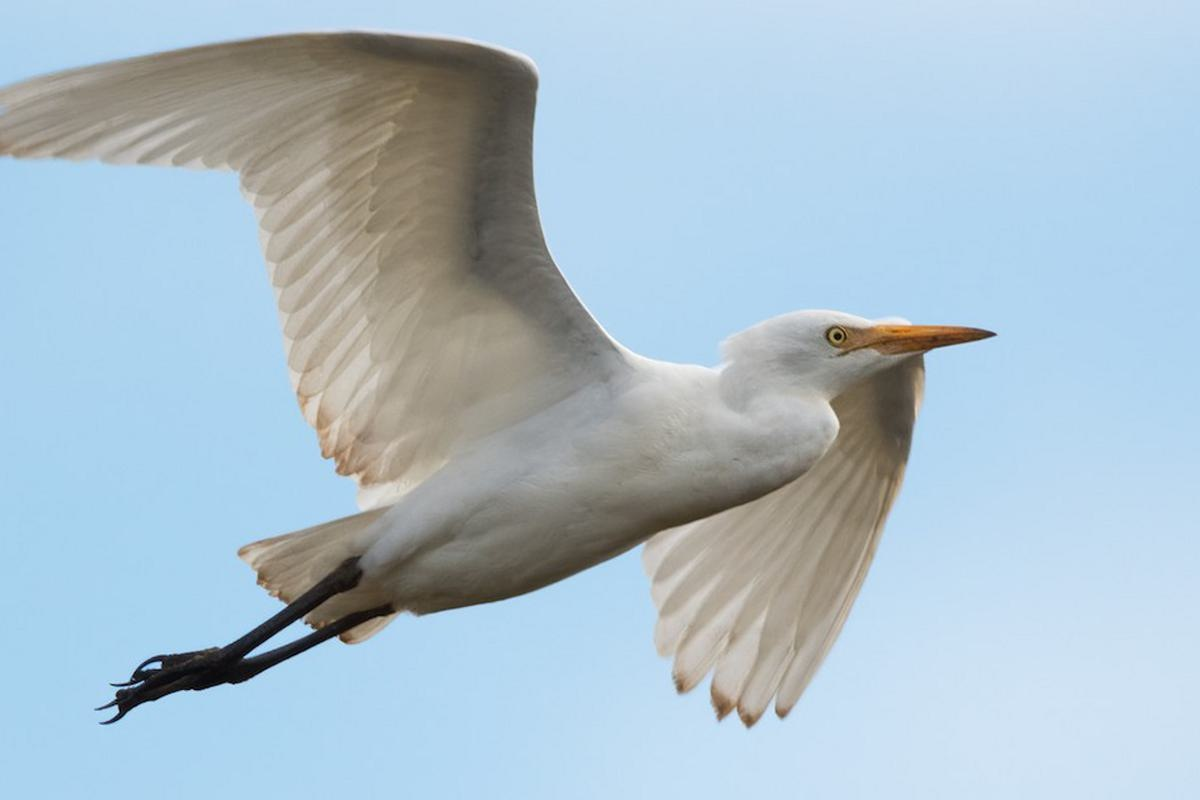egret: (1, 18, 1005, 744)
